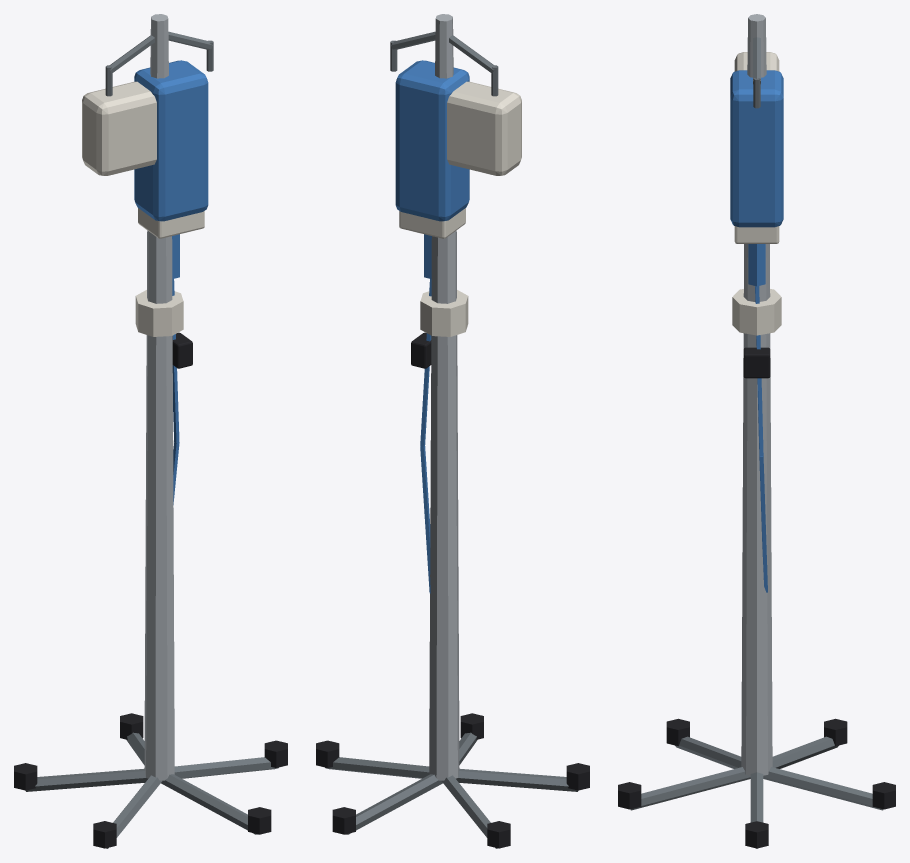
File: iv_stand.glb
3 renders of one model, left to right at view 1: azimuth 30°, elevation 25°; view 2: azimuth 150°, elevation 25°; view 3: azimuth 270°, elevation 25°, orthographic.
Visible parts, largest first — view 1: iv_stand; view 2: iv_stand; view 3: iv_stand.
Part boxes in pixels (x1,y1,x2,y2): iv_stand: (14,14,287,848); iv_stand: (316,14,589,848); iv_stand: (618,14,895,848).
Size of what is drawn, in the model's own units: 0.6027 by 1.92 by 0.6226.
Materials: 2 (2 with a texture image).
